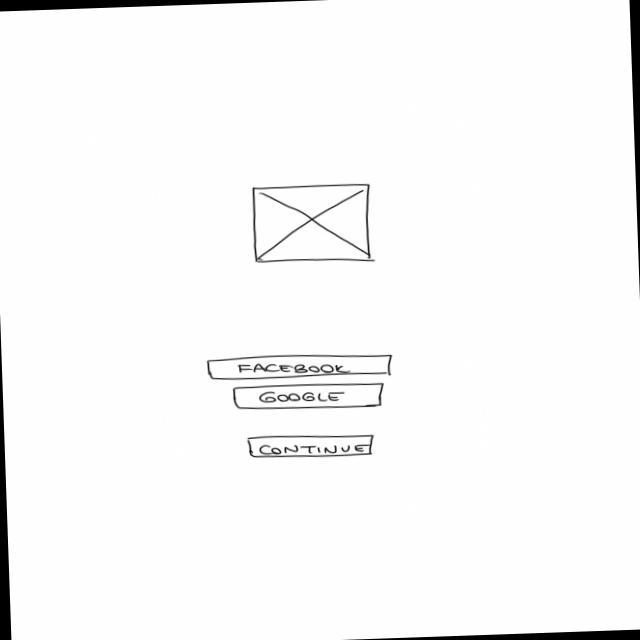button: (206, 350, 396, 384), (232, 382, 388, 413), (245, 432, 377, 462)
image: (251, 182, 375, 267)
